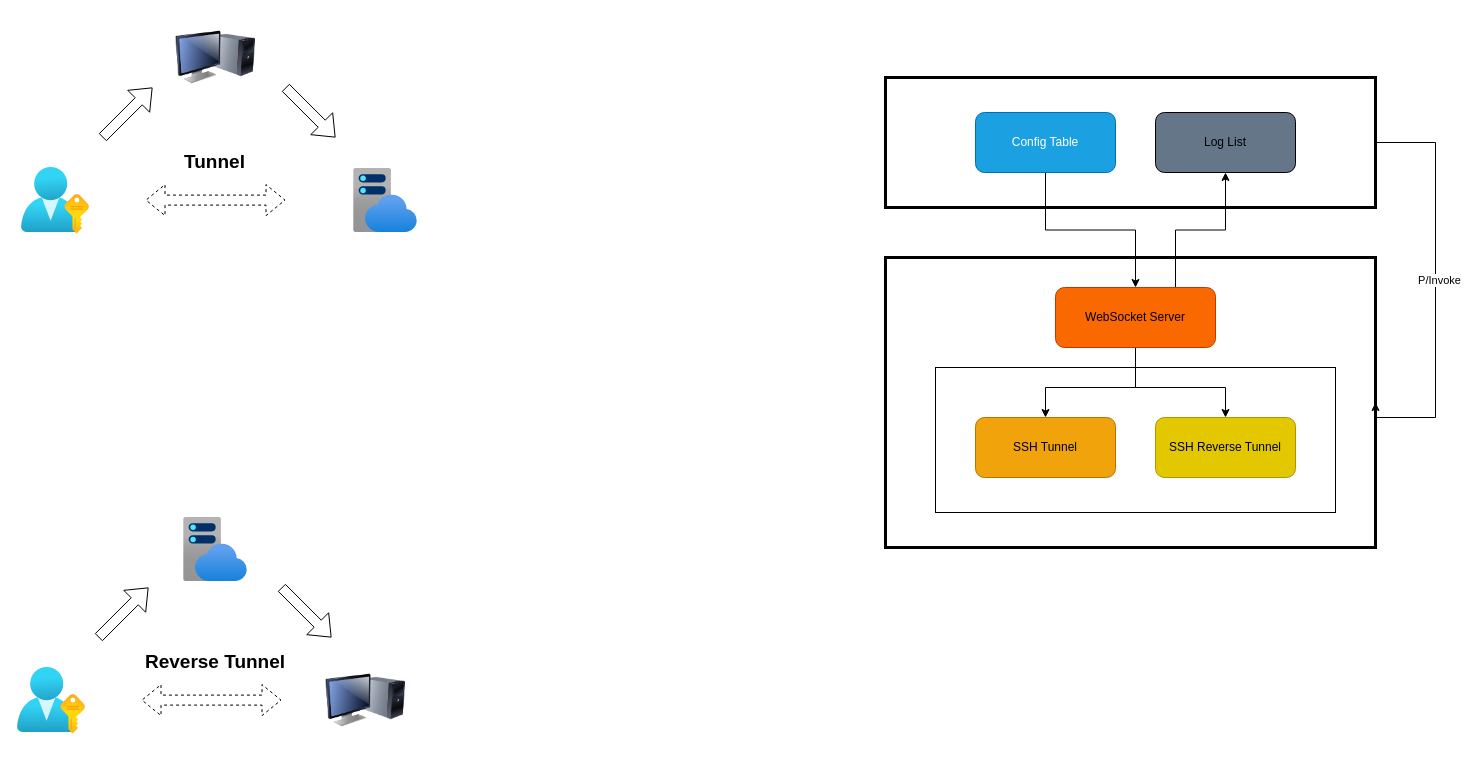
Image size: 1477x757. Some labels were removed from this diagram. Each missing label, with the box of its shape:
Golang: (884, 256, 1376, 548)
Keep Alive: (934, 366, 1336, 512)
Windows Forms: (884, 76, 1376, 208)
